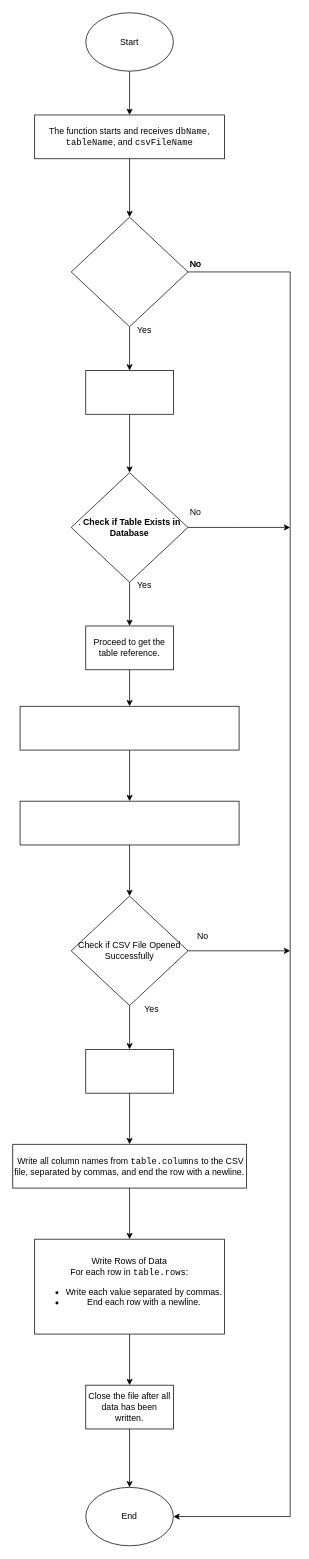
The diagram is 309 pixels wide and 1559 high, and some of its shapes have lost their labels. The shapes that lost their labels are listed below. From the top down, each one's centre as x and y in pixels, then its label:
At (x=129, y=271): "Check if Database Exists".
At (x=129, y=392): "Proceed to check if the table exists.".
At (x=129, y=728): "Retrieve the table object using databases[dbName].tables[tableName] .".
At (x=129, y=822): "Attempt to open the file specified by csvFileName .".
At (x=129, y=1071): "Proceed to write column headers.".
